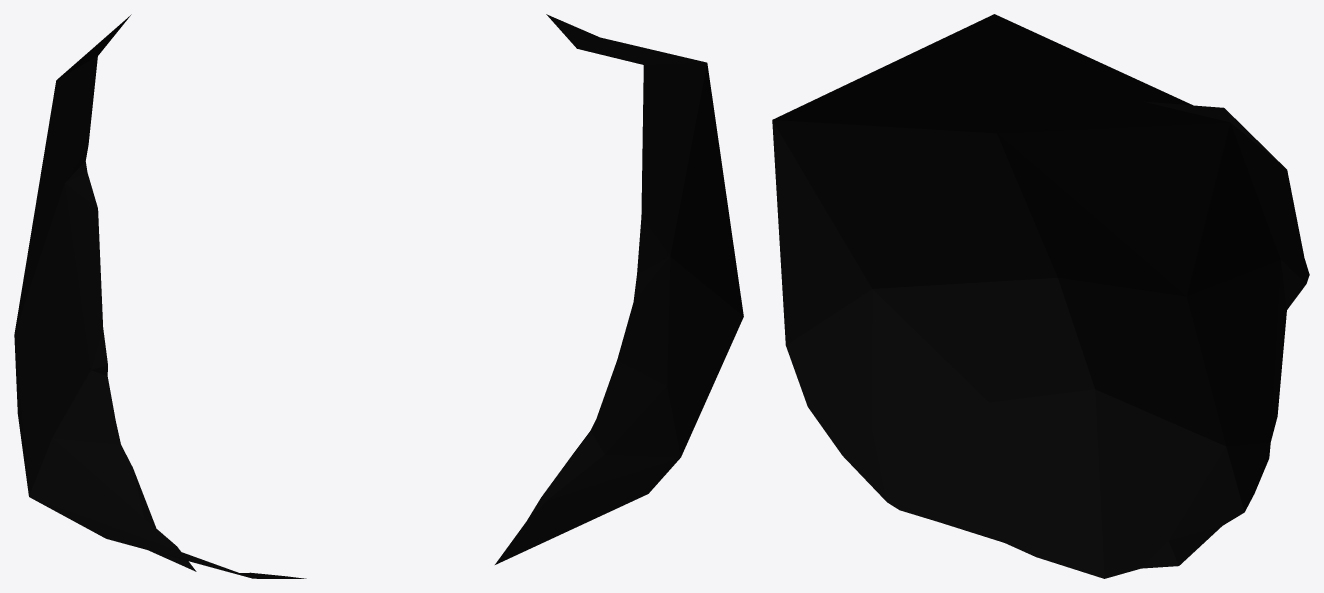
3 renders of one model, left to right at view 1: azimuth 30°, elevation 25°; view 2: azimuth 150°, elevation 25°; view 3: azimuth 270°, elevation 25°, orthographic. The views are drawn at different scales.
Bounding box in the file's own units: 0.3362 × 0.9328 × 0.8297.
1 material, 1 textured.
